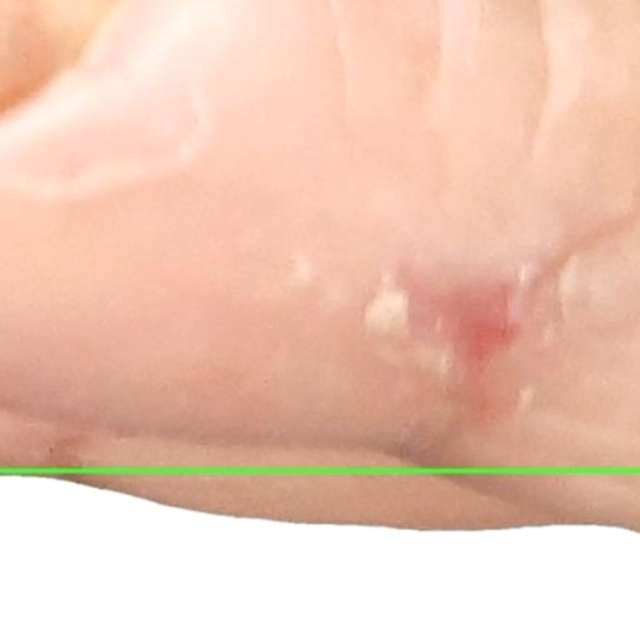Contact Dermatitis: (0, 470, 639, 639)
